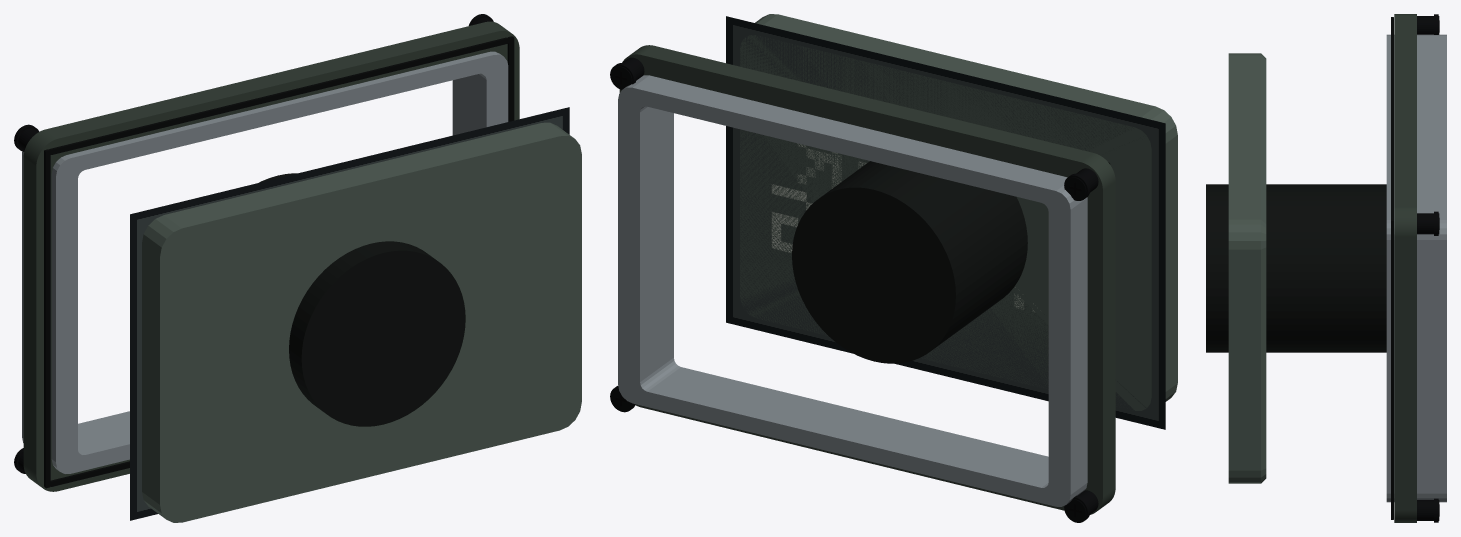
The model's file is MFDStudio.obj.
3 views of the same model, side by side, from view 1: azimuth 30°, elevation 25°; view 2: azimuth 150°, elevation 25°; view 3: azimuth 270°, elevation 25° (orthographic). The views are drawn at different scales.
Parts seen in each view (by area): view 1: MFDStudioActuator, MFDStudioMount, MFDStudioBody, MFDStudioScreen, MFDStudioScrews; view 2: MFDStudioMount, MFDStudioActuator, MFDStudioScreen, MFDStudioBody, MFDStudioScrews; view 3: MFDStudioMount, MFDStudioActuator, MFDStudioBody, MFDStudioScrews.
Part boxes in pixels (x1,y1,x2,y2): MFDStudioActuator: (142,122,581,522); MFDStudioMount: (22,51,508,473); MFDStudioBody: (23,21,519,491); MFDStudioScreen: (130,107,569,520); MFDStudioScrews: (14,14,493,473); MFDStudioMount: (618,75,1087,506); MFDStudioActuator: (740,14,1177,410); MFDStudioScreen: (726,16,1165,429); MFDStudioBody: (619,45,1115,514); MFDStudioScrews: (610,57,1098,522); MFDStudioMount: (1206,34,1446,502); MFDStudioActuator: (1228,53,1266,483); MFDStudioBody: (1391,14,1416,522); MFDStudioScrews: (1417,14,1439,522).
Bounding box in the file's own units: 0.066 × 0.046 × 0.032.
Materials: 8 (1 with a texture image).
